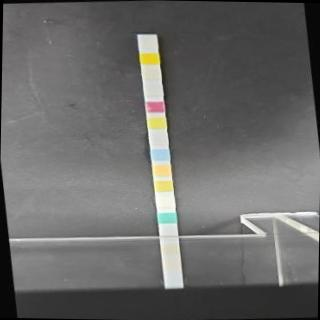mark: (152, 163, 172, 176), (145, 100, 165, 113), (154, 179, 172, 192), (148, 116, 166, 129), (140, 52, 158, 65), (149, 132, 168, 144), (137, 36, 156, 48), (157, 212, 175, 224), (156, 196, 174, 208), (151, 148, 169, 160), (144, 84, 162, 96), (142, 67, 160, 79)
